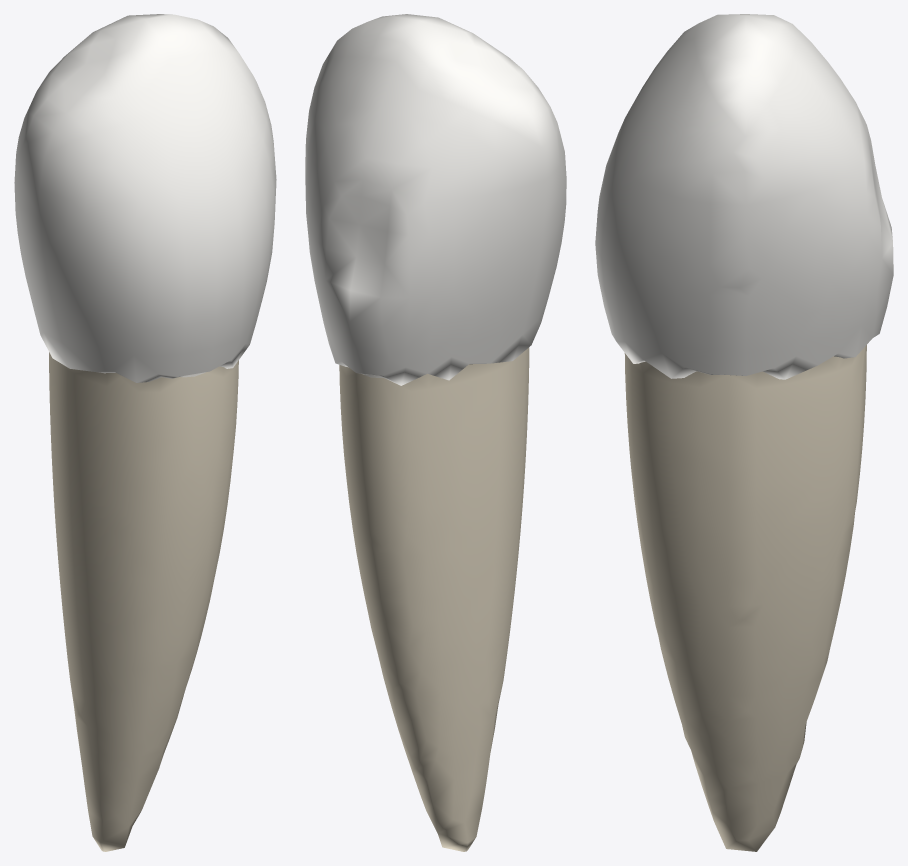
The picture shows the model from 3 angles, left to right: view 1: azimuth 30°, elevation 25°; view 2: azimuth 150°, elevation 25°; view 3: azimuth 270°, elevation 25°; orthographic projection. The views are drawn at different scales.
Parts seen in each view (by area): view 1: crown, root; view 2: crown, root; view 3: crown, root.
Part boxes in pixels (<box>): crown: <box>14,14,276,382</box>; root: <box>49,352,238,851</box>; crown: <box>305,14,566,385</box>; root: <box>339,347,529,851</box>; crown: <box>595,14,893,379</box>; root: <box>624,345,866,851</box>.
Bounding box in the file's own units: 8.19 × 27.23 × 8.61.
